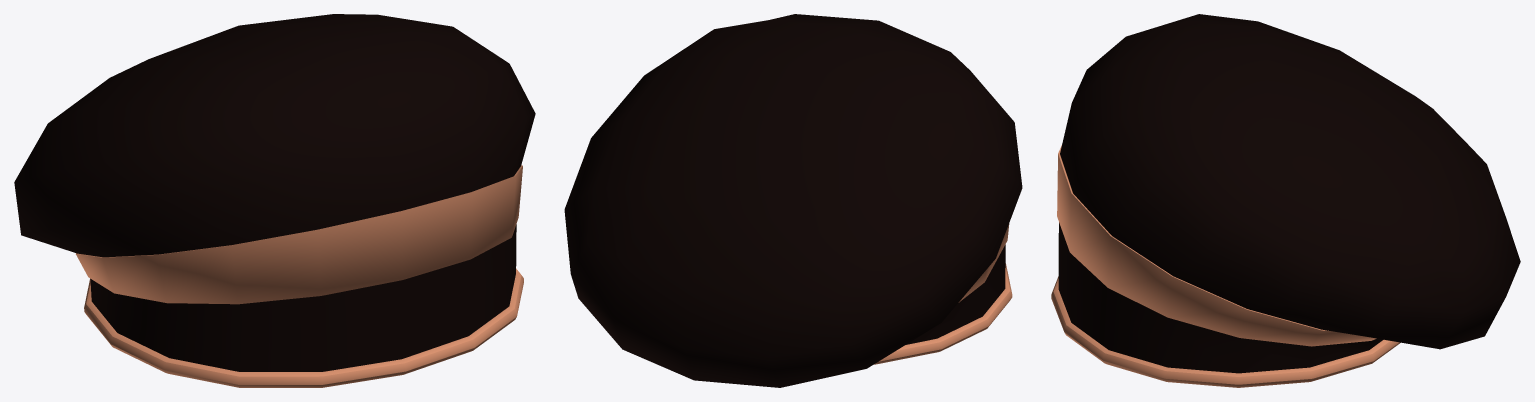
File: Hats_1 To 10.FBX
The picture shows the model from 3 angles, left to right: view 1: azimuth 30°, elevation 25°; view 2: azimuth 150°, elevation 25°; view 3: azimuth 270°, elevation 25°; orthographic projection. The views are drawn at different scales.
Parts seen in each view (by area): view 1: Hat_4; view 2: Hat_4; view 3: Hat_4.
Boxes of the visible parts, x1,y1,x2,y2 form: Hat_4: (14, 14, 535, 387); Hat_4: (564, 14, 1022, 387); Hat_4: (1051, 14, 1520, 387).
Size of the model in its own units: 39.03 by 22.62 by 38.03.
